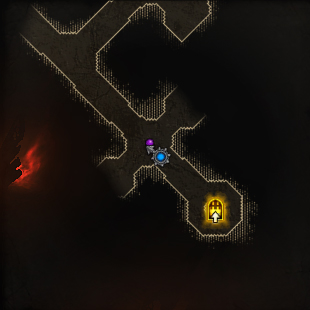Exit: (207, 195, 226, 225)
